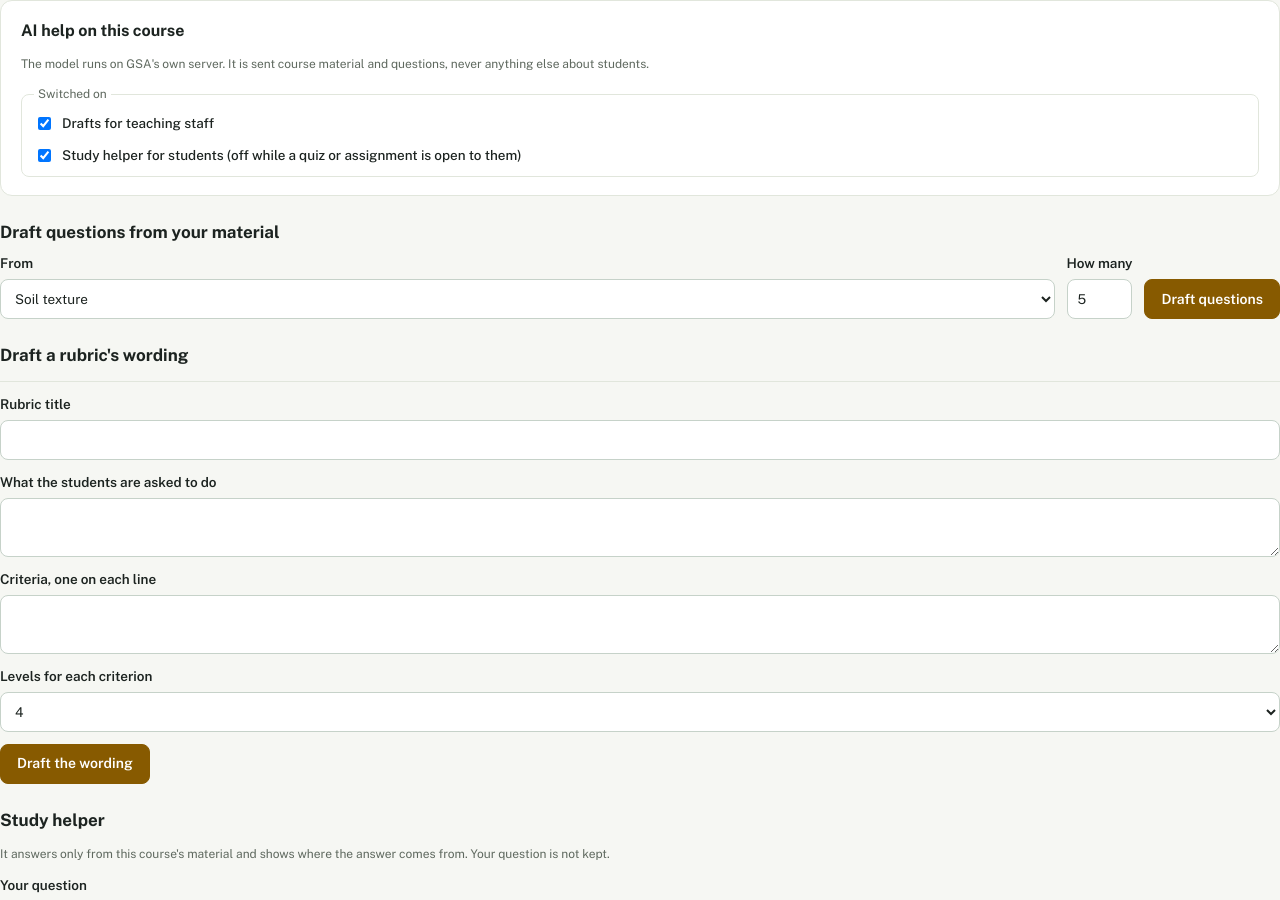
Test: AI help for teaching staff (item 6.11) › shows why a draft could not be made or saved
The width and height of the screenshot is (1280, 900).
Click the button "Draft questions" at (1212, 299), box left=1144, top=279, right=1279, bottom=319
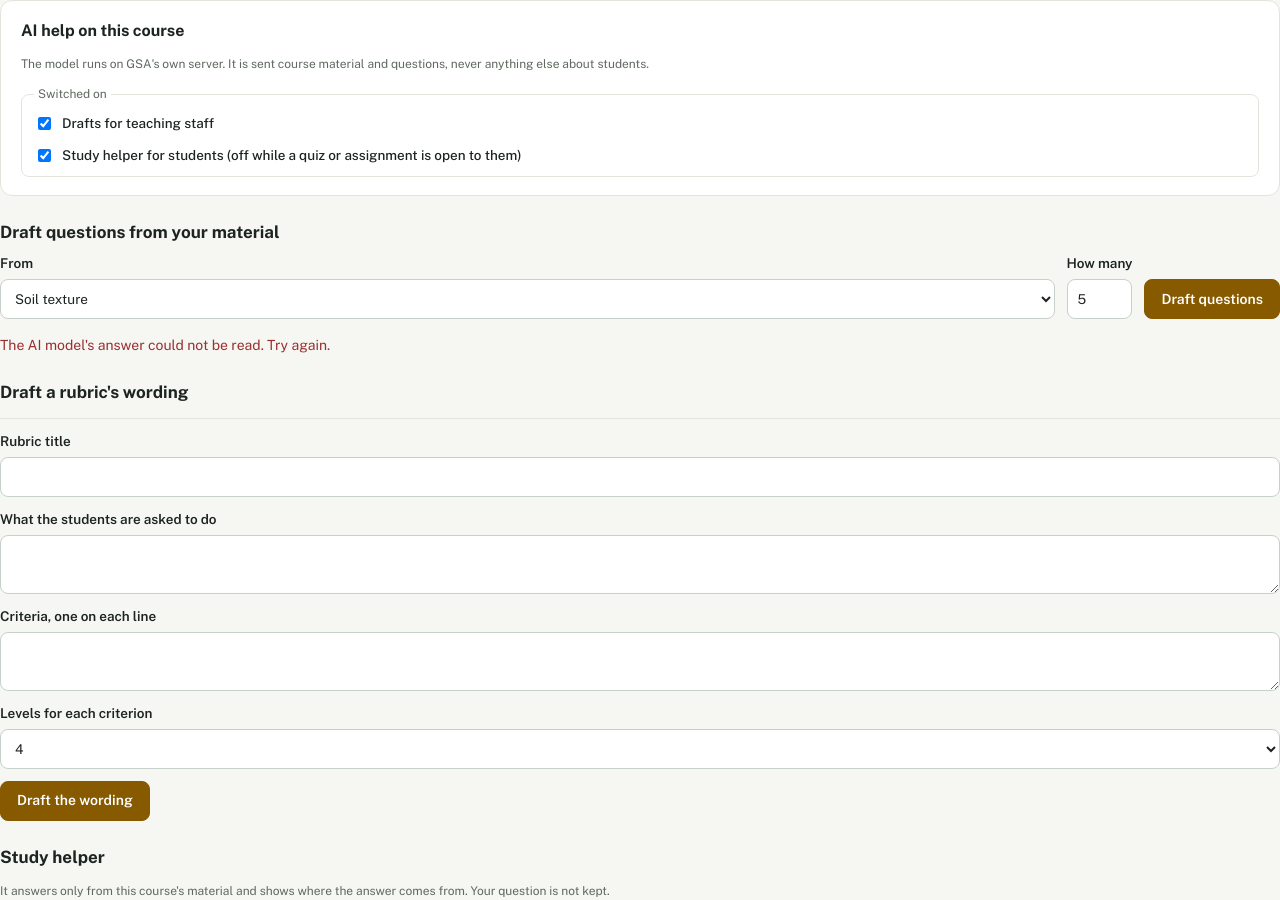
Expected: the message shows "could not be read", left=0, top=337, right=330, bottom=353
Click the button "Draft questions" at (1212, 299), box left=1144, top=279, right=1279, bottom=319
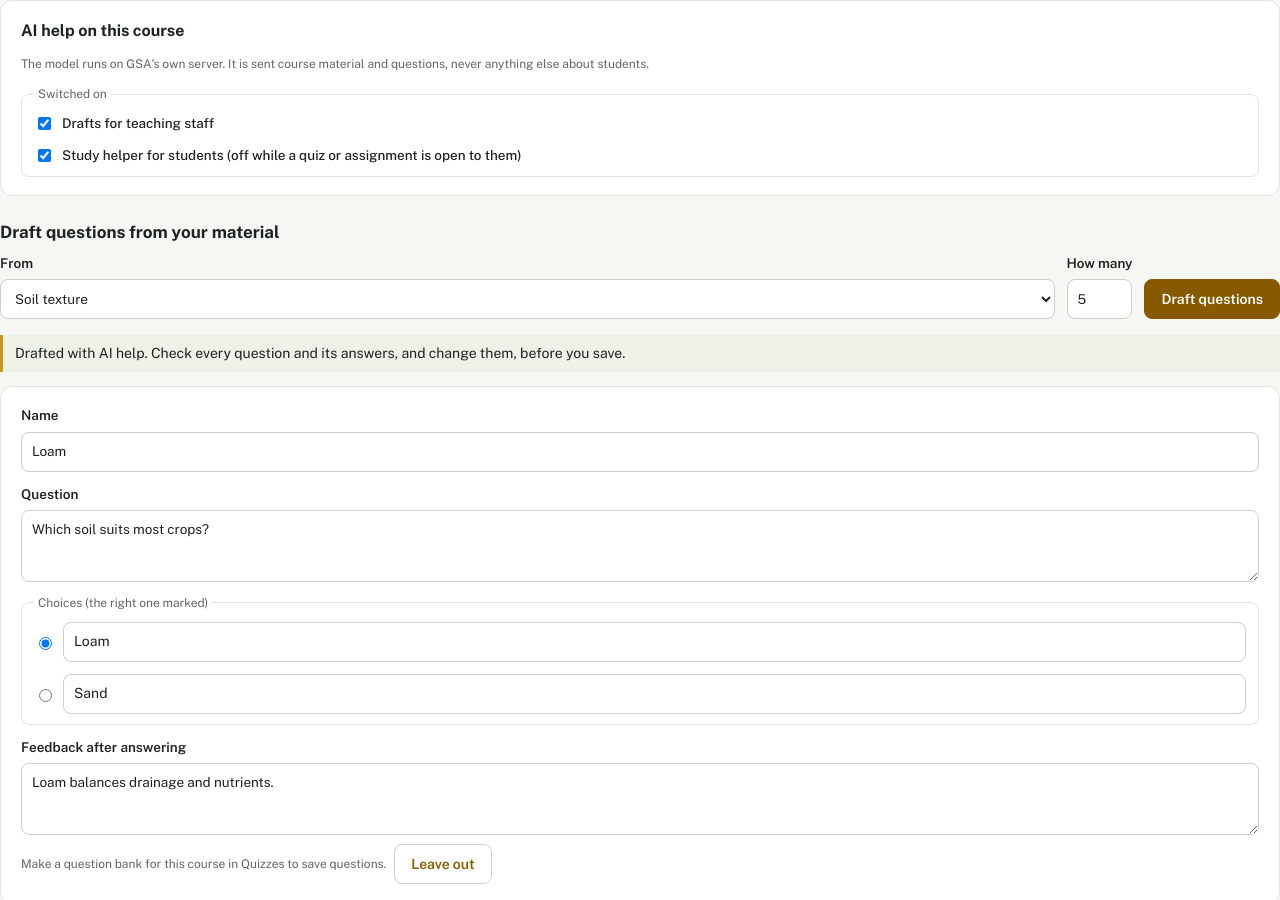
Expected: the text "Make a question bank for this course in Quizzes" is shown, left=21, top=857, right=386, bottom=871
